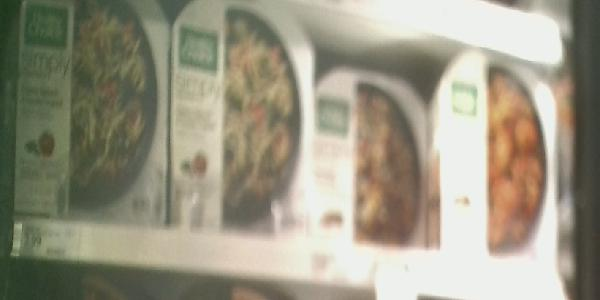pizza1: (10, 1, 168, 228), (170, 1, 315, 239), (436, 52, 560, 258), (314, 66, 432, 251)
